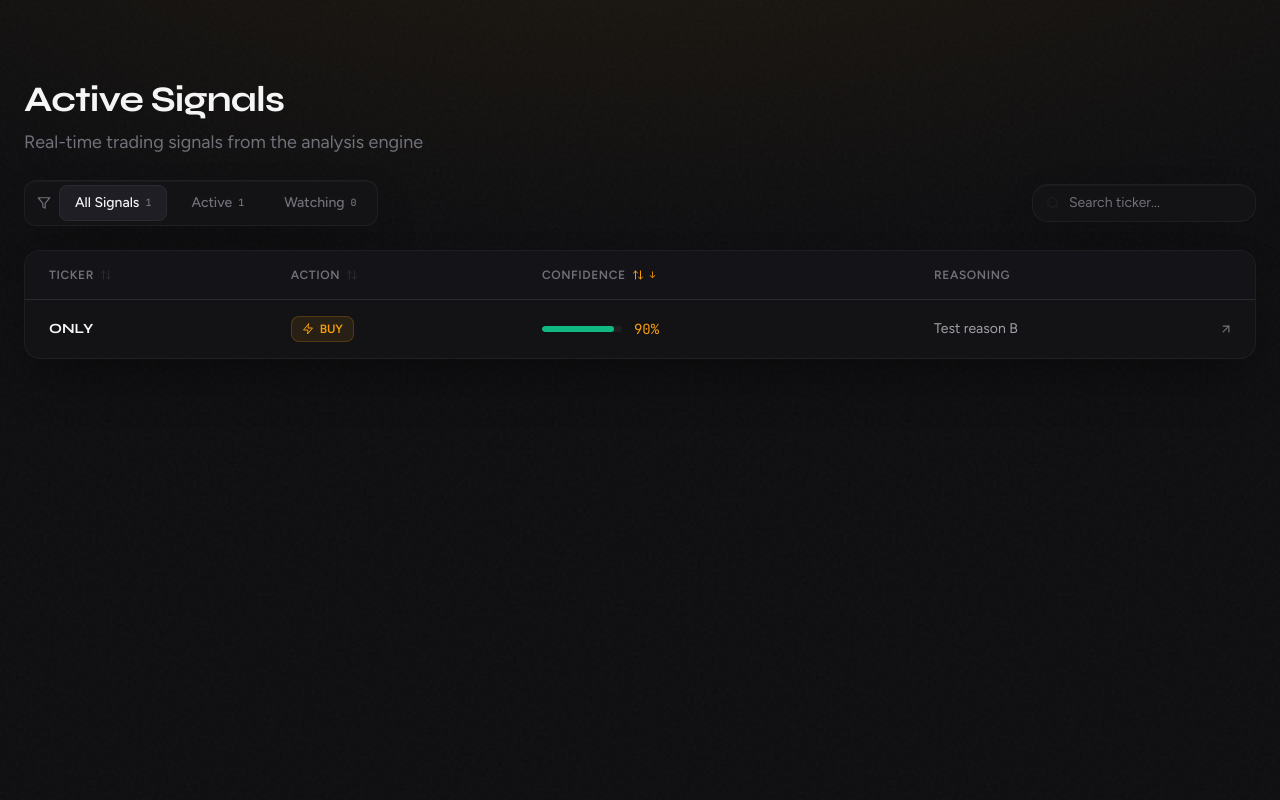
Test: Signals page › filter tab behaviour › shows "No Matches" when filtered tab has no results
Click the button "Watching 0" at {"x": 320, "y": 203}, box [268, 185, 373, 221]
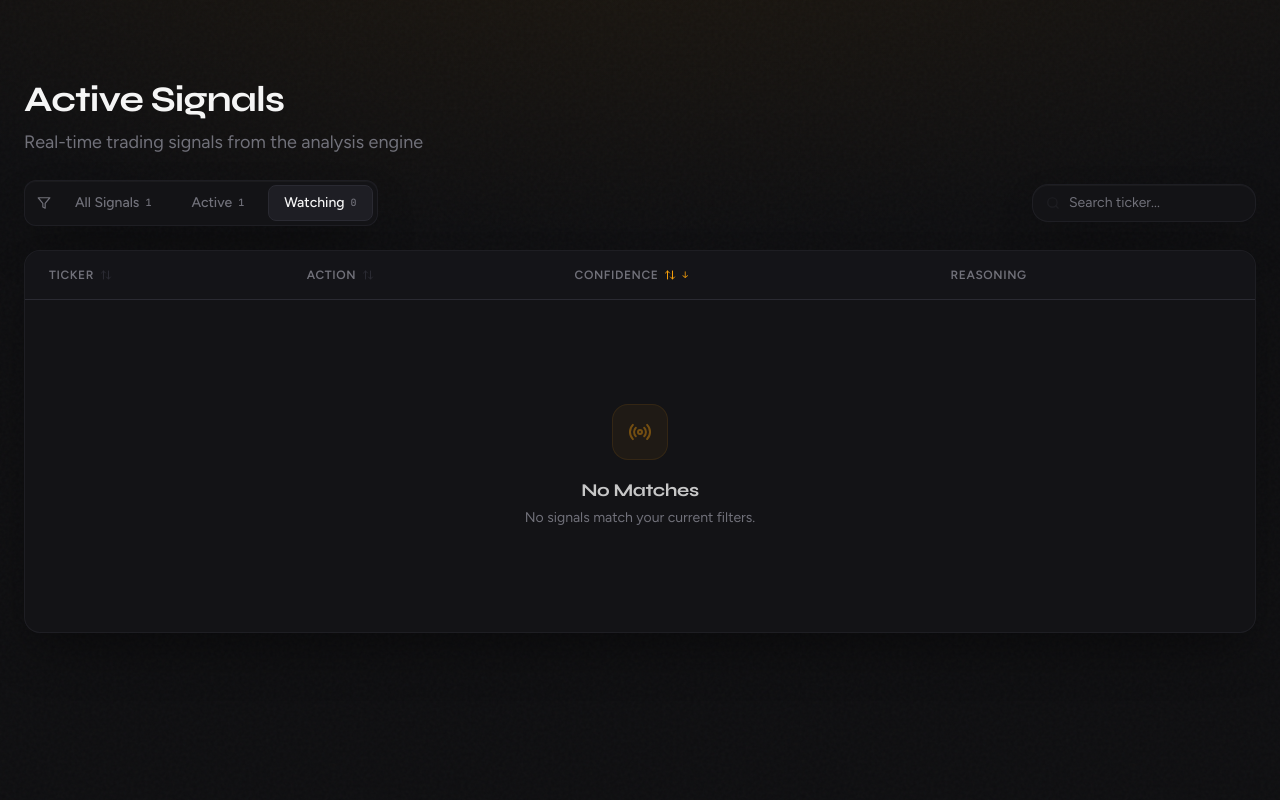
Expected: the heading "No Matches" is shown, [581, 476, 699, 504]
